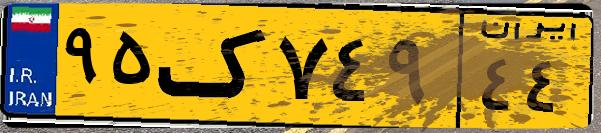4: (330, 28, 385, 110), (475, 38, 525, 113), (525, 38, 570, 115)
5: (110, 28, 158, 98)
7: (270, 28, 330, 110)
9: (385, 28, 445, 110), (57, 26, 110, 100)
ک: (158, 12, 270, 120)
